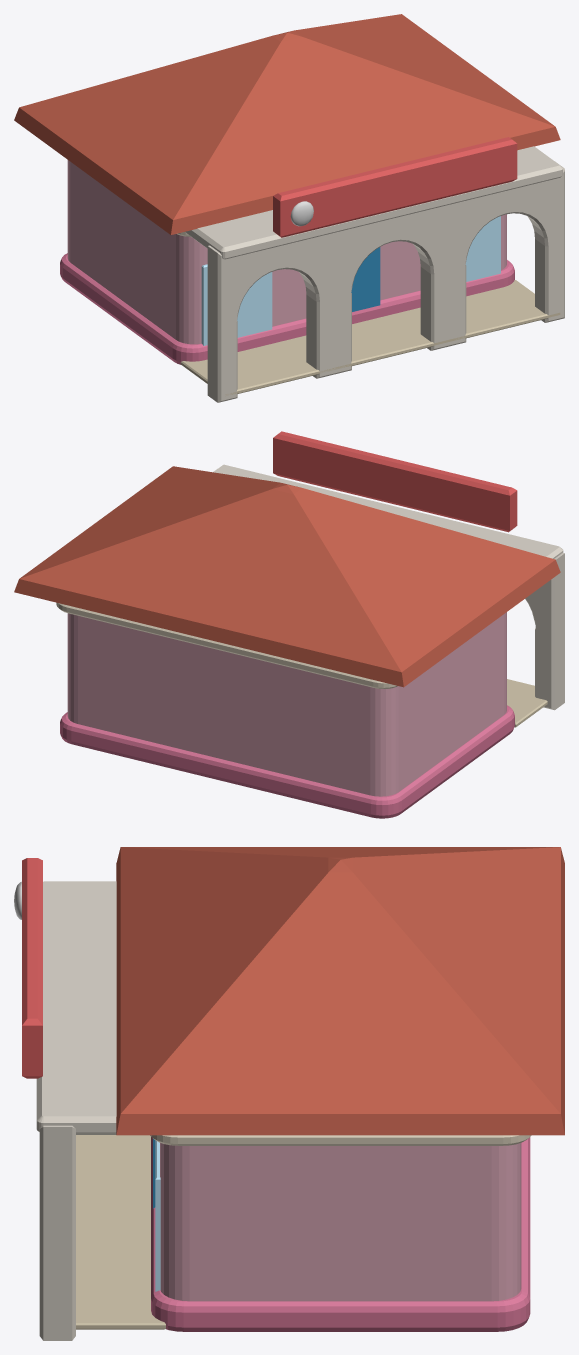
File: comercio_p.glb
3 views of the same model, one above another, from view 1: azimuth 30°, elevation 25°; view 2: azimuth 150°, elevation 25°; view 3: azimuth 270°, elevation 25° (orthographic). The views are drawn at different scales.
Visible parts, largest first — view 1: comercio_p_corpo, comercio_p_vidro; view 2: comercio_p_corpo; view 3: comercio_p_corpo, comercio_p_vidro.
Part boxes in pixels (x1,y1,x2,y2): comercio_p_corpo: (14,14,564,402); comercio_p_vidro: (201,216,500,345); comercio_p_corpo: (14,431,564,818); comercio_p_corpo: (14,847,564,1340); comercio_p_vidro: (155,1140,160,1291).
Size of the model in its own units: 10.69 by 6.6 by 9.15.
